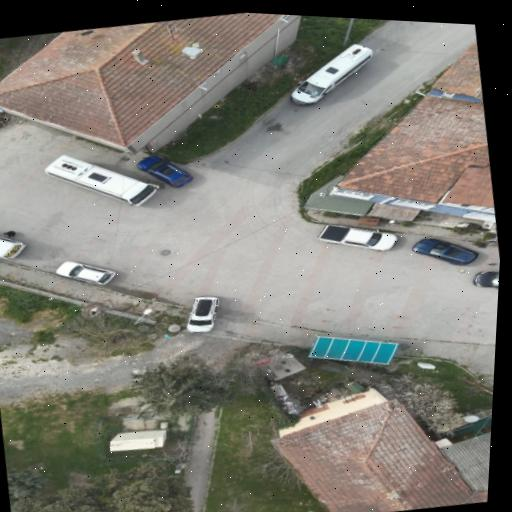bus: (44, 154, 159, 204), (0, 236, 25, 257)
car: (292, 44, 372, 105), (318, 225, 397, 250), (412, 238, 478, 266), (138, 156, 192, 187), (56, 261, 115, 284), (187, 296, 219, 332), (473, 272, 498, 287)
person: (4, 231, 16, 237)
